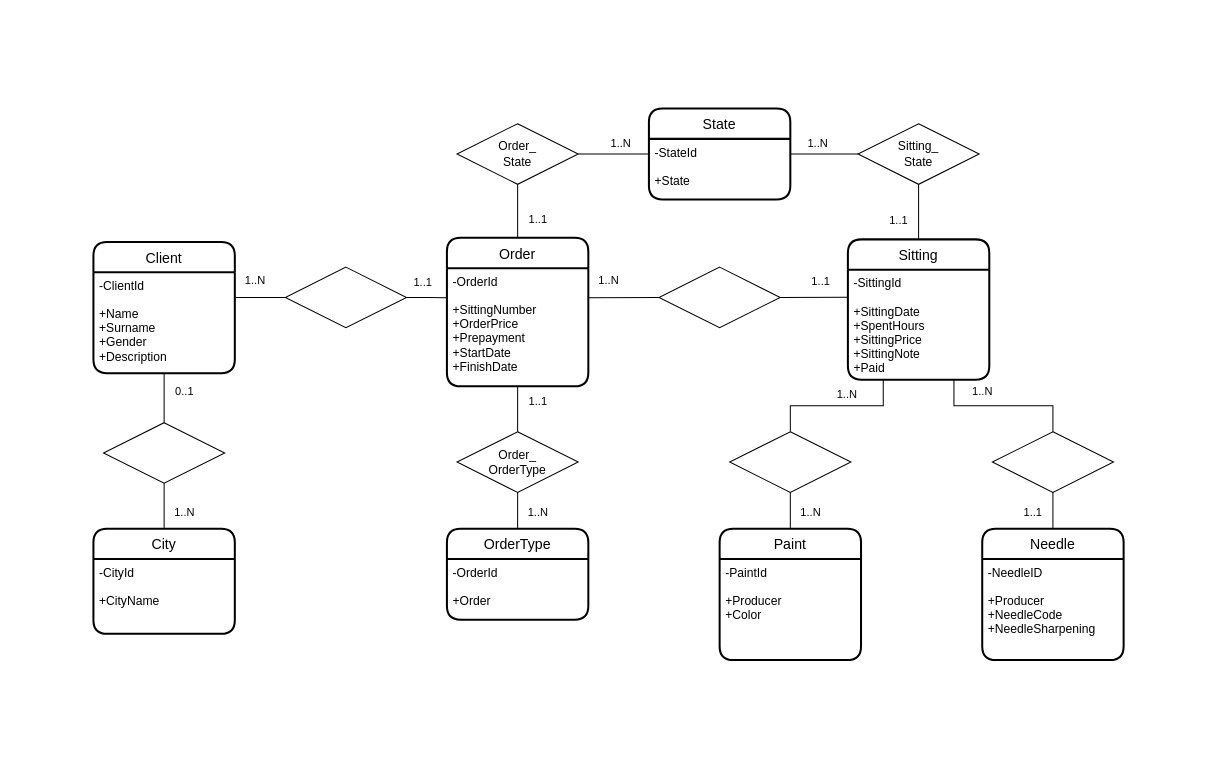
Some shapes in this 1215 by 772 pixel diagram are drawn without their labels. Here are the shapes that lost their labels. From the top down, the centre of each, then its label:
At (x=345, y=297): "Client_ Order".
At (x=719, y=297): "Order_ Sitting".
At (x=164, y=452): "Location".
At (x=790, y=461): "Sitting_ Paint".
At (x=1052, y=461): "Sitting_ Needle".
